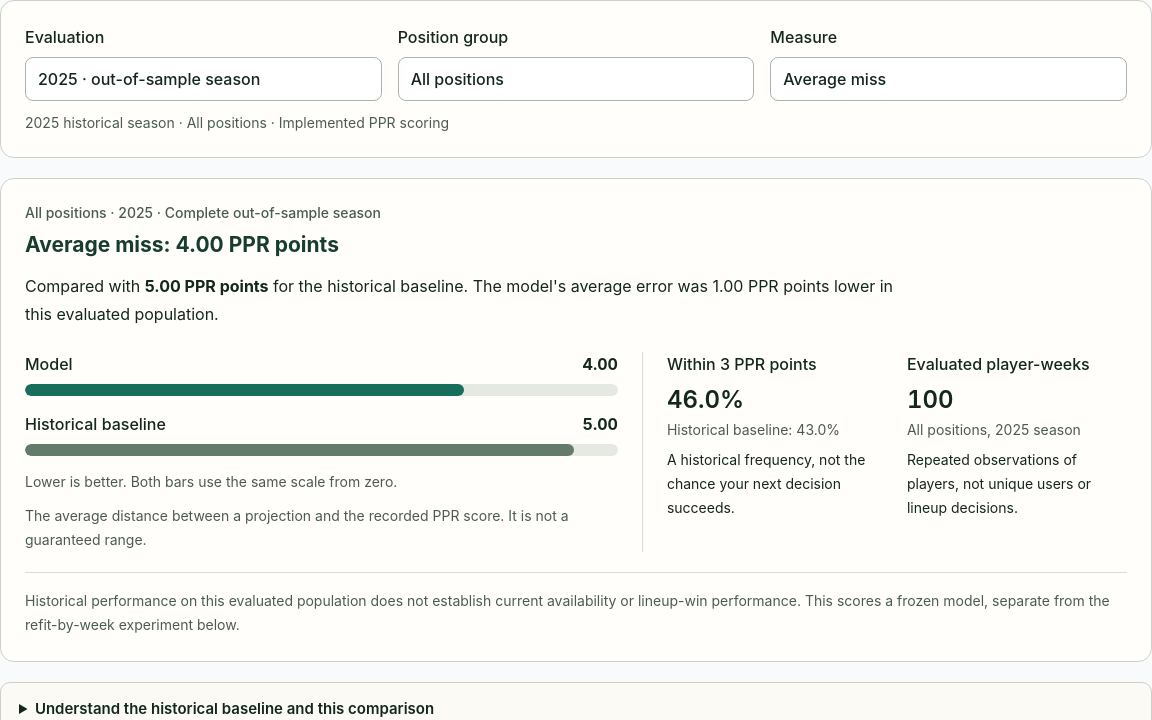
readable model results › updates headline, baseline comparison, rate, sample and chart with position/metric changes
Select "RB" in the dropdown labelled "Position group": (576, 79) [398, 57, 754, 101]
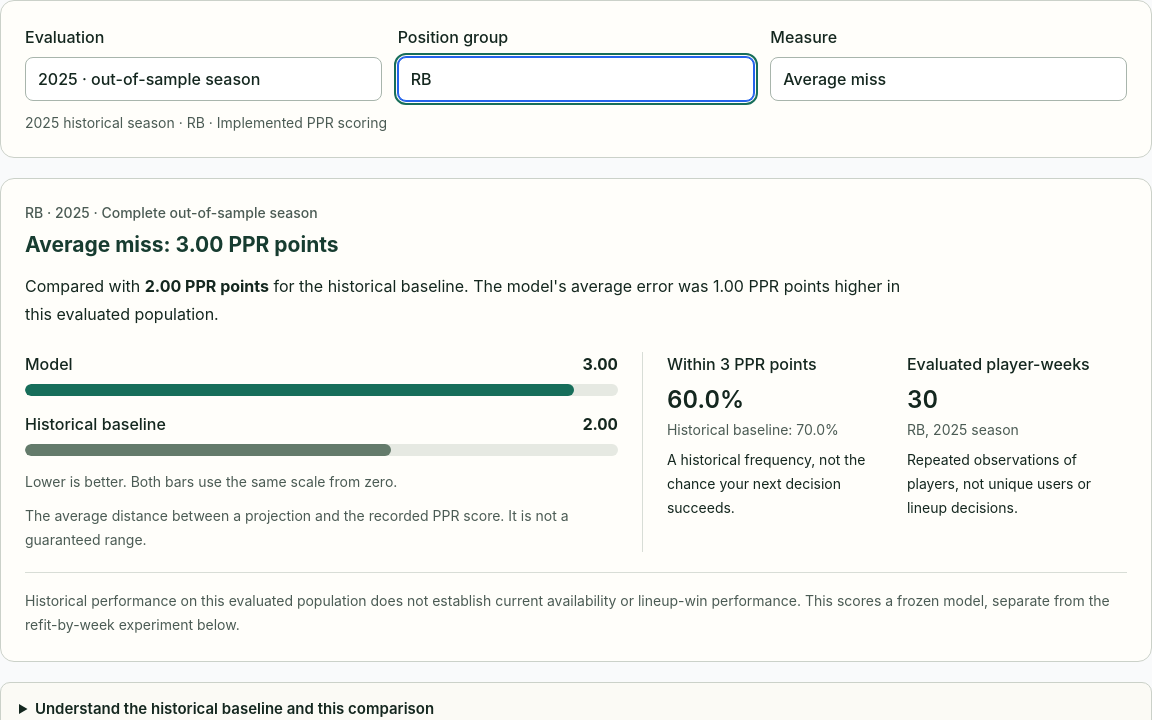
Check: the element with test id "evaluation-finding" shows "Average miss: 3.00 PPR points"
Check: the element with test id "evaluation-finding" shows "1.00 PPR points higher", box [25, 276, 900, 324]
Check: the element with test id "evaluation-finding" shows "Historical baseline: 70.0%"
Select "Within 3 points" in the dropdown labelled "Measure": (949, 79) [770, 57, 1127, 101]
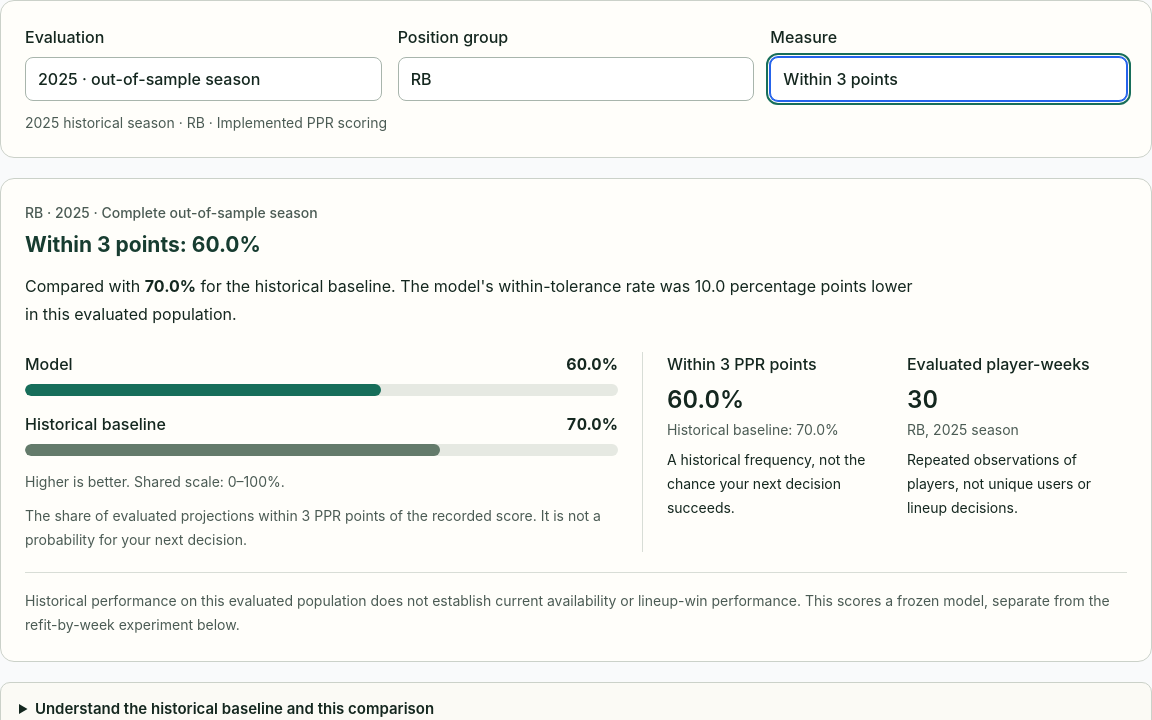
Check: the heading "Within 3 points: 60.0%" is shown, box [25, 232, 261, 257]
Check: the element with test id "evaluation-finding" shows "10.0 percentage points lower", box [25, 276, 913, 324]
